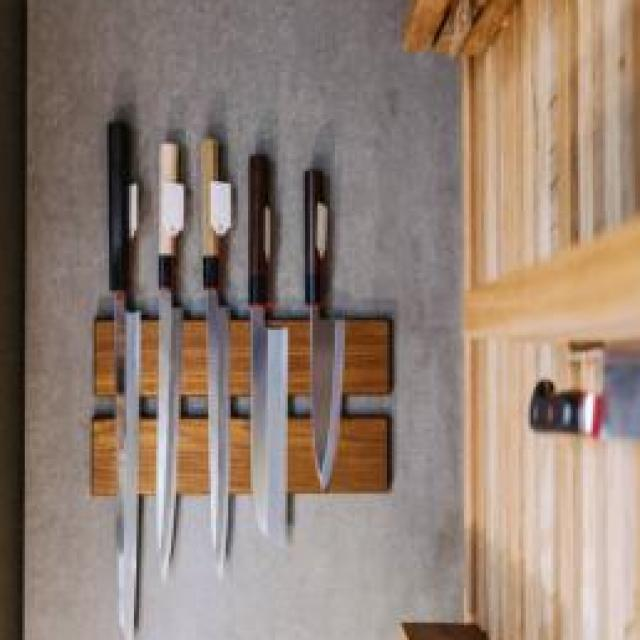knife: (100, 124, 142, 640), (246, 154, 292, 550), (199, 130, 233, 588), (303, 164, 346, 494), (156, 142, 184, 580)
